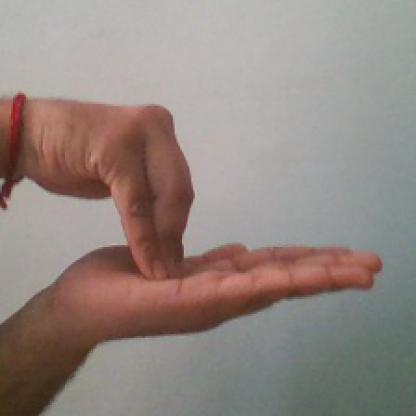Z: (16, 83, 392, 363)
